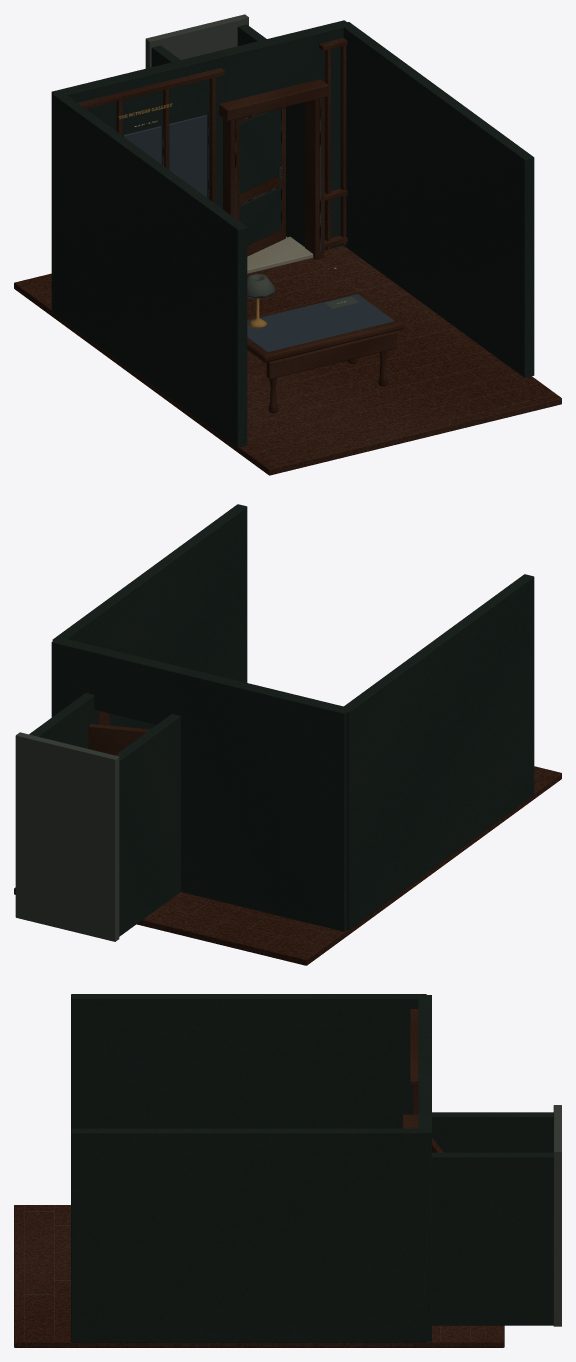
The model's file is memorial-alcove.glb.
3 views of the same model, one above another, from view 1: azimuth 30°, elevation 25°; view 2: azimuth 150°, elevation 25°; view 3: azimuth 270°, elevation 25° (orthographic). The views are drawn at different scales.
Parts seen in each view (by area): view 1: Memorial left rear wall, Memorial parquet foundation, Memorial velvet wall field, Memorial parquet cross seam, Memorial upper door field, Memorial paneled door, Memorial threshold, Memorial field silver bead; view 2: Memorial left rear wall, Memorial parquet cross seam, Memorial parquet foundation, Memorial paneled door; view 3: Memorial left rear wall, Memorial parquet foundation, Memorial parquet cross seam.
Boxes of the visible parts, x1=… form: Memorial left rear wall: x1=51, y1=20, x2=534, y2=447; Memorial parquet foundation: x1=14, y1=38, x2=561, y2=475; Memorial velvet wall field: x1=123, y1=115, x2=394, y2=352; Memorial parquet cross seam: x1=35, y1=14, x2=553, y2=464; Memorial upper door field: x1=239, y1=108, x2=280, y2=245; Memorial paneled door: x1=239, y1=107, x2=285, y2=256; Memorial threshold: x1=247, y1=236, x2=313, y2=273; Memorial field silver bead: x1=123, y1=98, x2=320, y2=297; Memorial left rear wall: x1=29, y1=504, x2=534, y2=936; Memorial parquet cross seam: x1=15, y1=732, x2=552, y2=946; Memorial parquet foundation: x1=14, y1=711, x2=561, y2=965; Memorial paneled door: x1=88, y1=724, x2=149, y2=755; Memorial left rear wall: x1=71, y1=994, x2=553, y2=1342; Memorial parquet foundation: x1=14, y1=1009, x2=504, y2=1347; Memorial parquet cross seam: x1=24, y1=1105, x2=561, y2=1339.
Size of the model in its own units: 4.76 by 3.45 by 7.93.
Materials: 8 (6 with a texture image).
